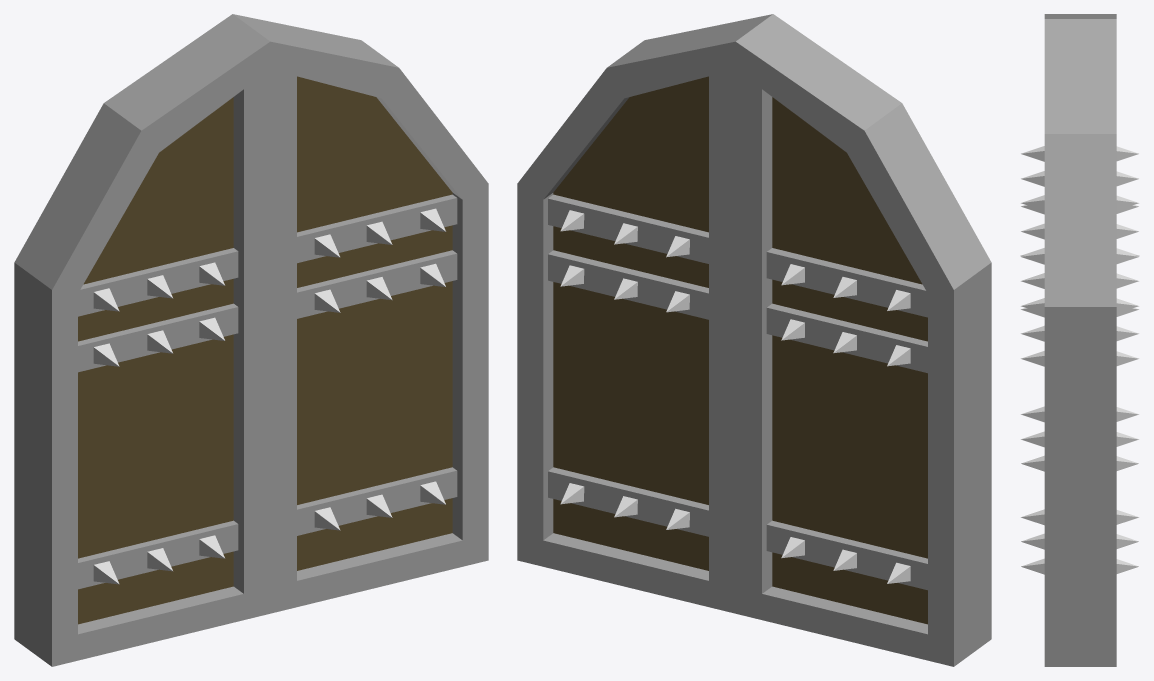
Rendered from Big Door 01.FBX.
3 renders of one model, left to right at view 1: azimuth 30°, elevation 25°; view 2: azimuth 150°, elevation 25°; view 3: azimuth 270°, elevation 25°, orthographic. The views are drawn at different scales.
Visible parts, largest first — view 1: Big Door 01 Right, Big Door 01 Left; view 2: Big Door 01 Right, Big Door 01 Left; view 3: Big Door 01 Left, Big Door 01 Right.
Boxes of the visible parts, x1,y1,x2,y2 form: Big Door 01 Right: (14,14,270,666); Big Door 01 Left: (233,14,488,613); Big Door 01 Right: (735,14,991,666); Big Door 01 Left: (517,14,772,613); Big Door 01 Left: (1020,19,1139,666); Big Door 01 Right: (1020,14,1139,471).
Size of the model in its own units: 400 by 501 by 98.95.
